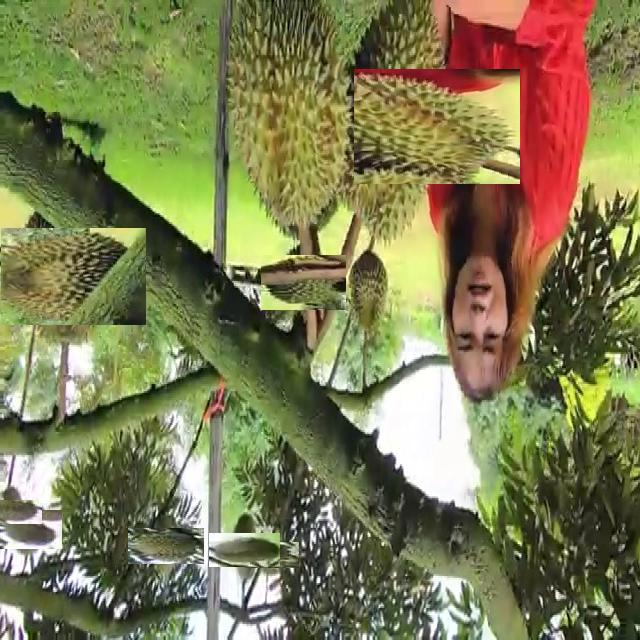durian: (304, 35, 486, 218), (225, 2, 354, 243), (0, 211, 130, 342), (268, 247, 338, 318), (345, 249, 391, 339), (138, 517, 194, 574), (219, 523, 271, 576), (4, 504, 57, 556), (252, 534, 292, 575), (0, 492, 34, 533)
